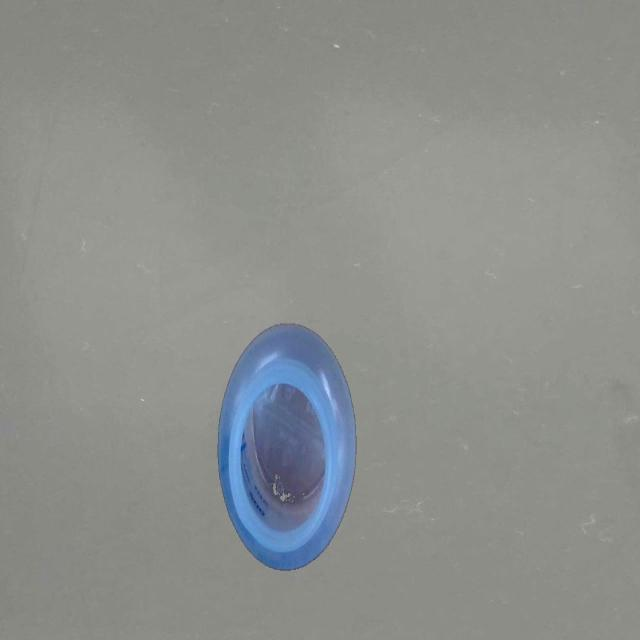bottle: (215, 320, 358, 574)
